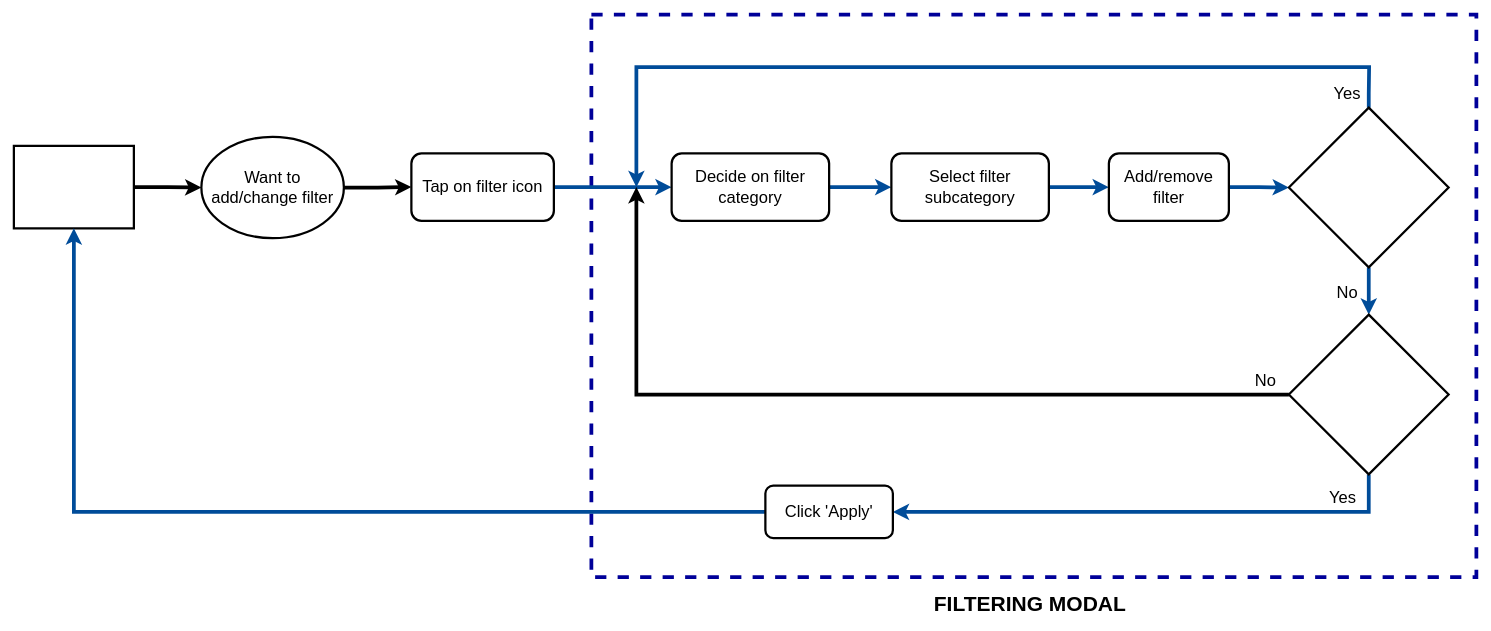
The diagram is 1491 pixels wide and 631 high, and some of its shapes have lost their labels. Each missing label, with the centre of its shape:
"Add/remove another filter?" belongs at point 1368,187.
"Apply new filters?" belongs at point 1368,394.
"Main View (dashboard)" belongs at point 73,186.
